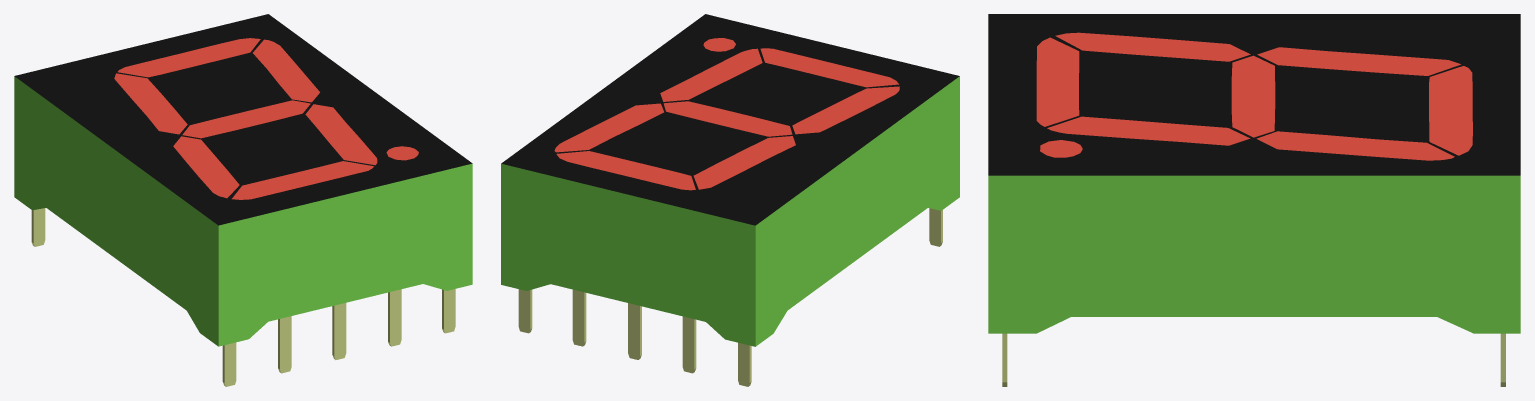
The model's file is SegmentDisplay.fbx.
The picture shows the model from 3 angles, left to right: view 1: azimuth 30°, elevation 25°; view 2: azimuth 150°, elevation 25°; view 3: azimuth 270°, elevation 25°; orthographic projection. The views are drawn at different scales.
Visible parts, largest first — view 1: Cube.001; view 2: Cube.001; view 3: Cube.001.
Part boxes in pixels (bbox=[...]): Cube.001: bbox=[14, 14, 472, 386]; Cube.001: bbox=[501, 14, 959, 386]; Cube.001: bbox=[988, 14, 1520, 386].
Size of the model in its own units: 460 by 291 by 640.
